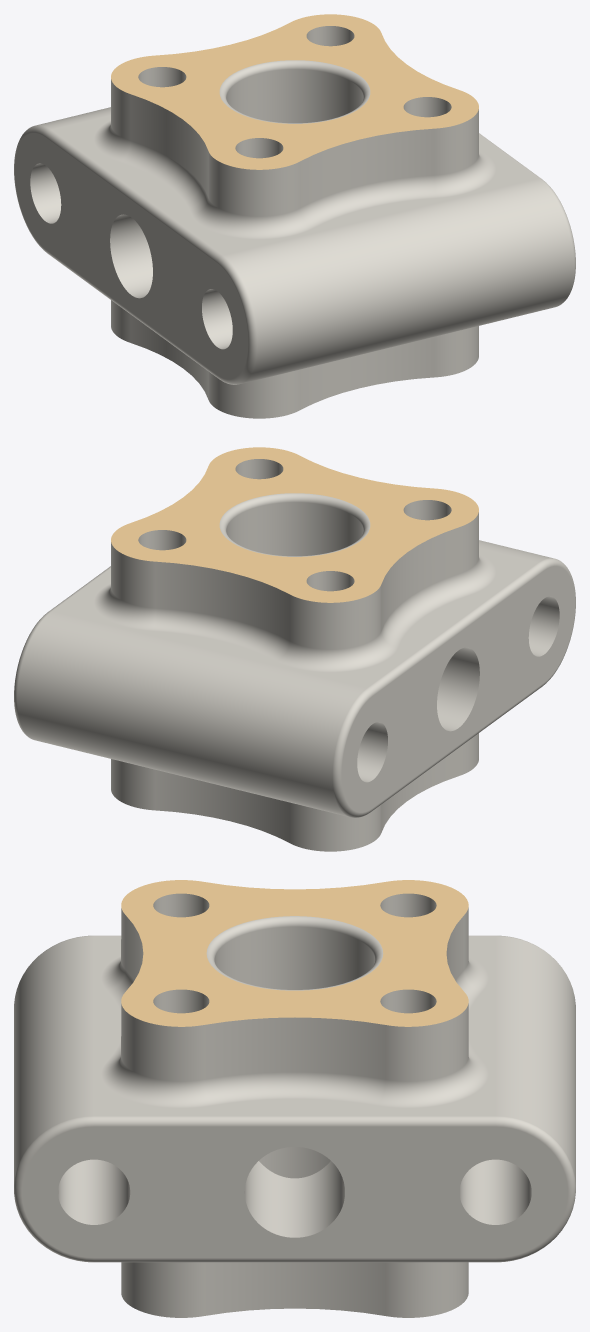
The model's file is Suporte de Articulação Flangeado.glb.
3 renders of one model, top to bottom at view 1: azimuth 30°, elevation 25°; view 2: azimuth 150°, elevation 25°; view 3: azimuth 270°, elevation 25°, orthographic. The views are drawn at different scales.
Parts seen in each view (by area): view 1: Part 1; view 2: Part 1; view 3: Part 1.
Part boxes in pixels (left/top/right/bottom): Part 1: left=14, top=14, right=575, bottom=418; Part 1: left=14, top=447, right=575, bottom=851; Part 1: left=14, top=880, right=575, bottom=1317.
Size of the model in its own units: 0.11 by 0.08 by 0.14.
